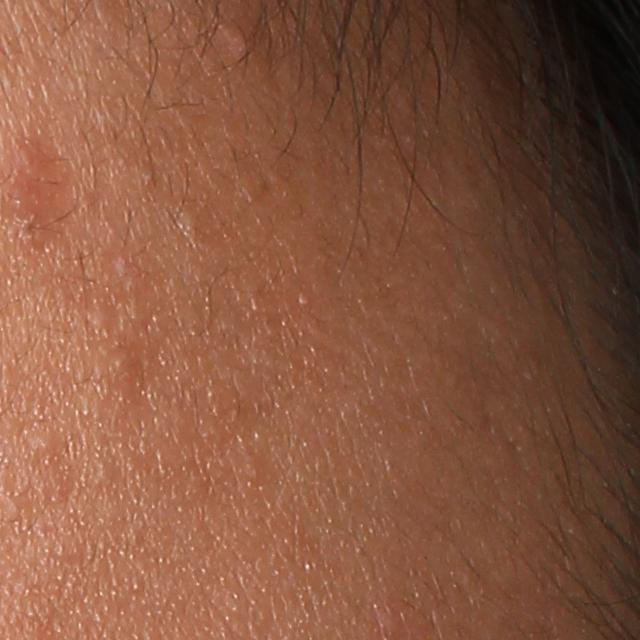comedo: (222, 14, 265, 62), (173, 196, 204, 234), (25, 426, 58, 455), (83, 304, 115, 332)
